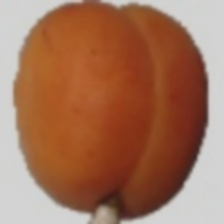apricot: (61, 64, 204, 201)
